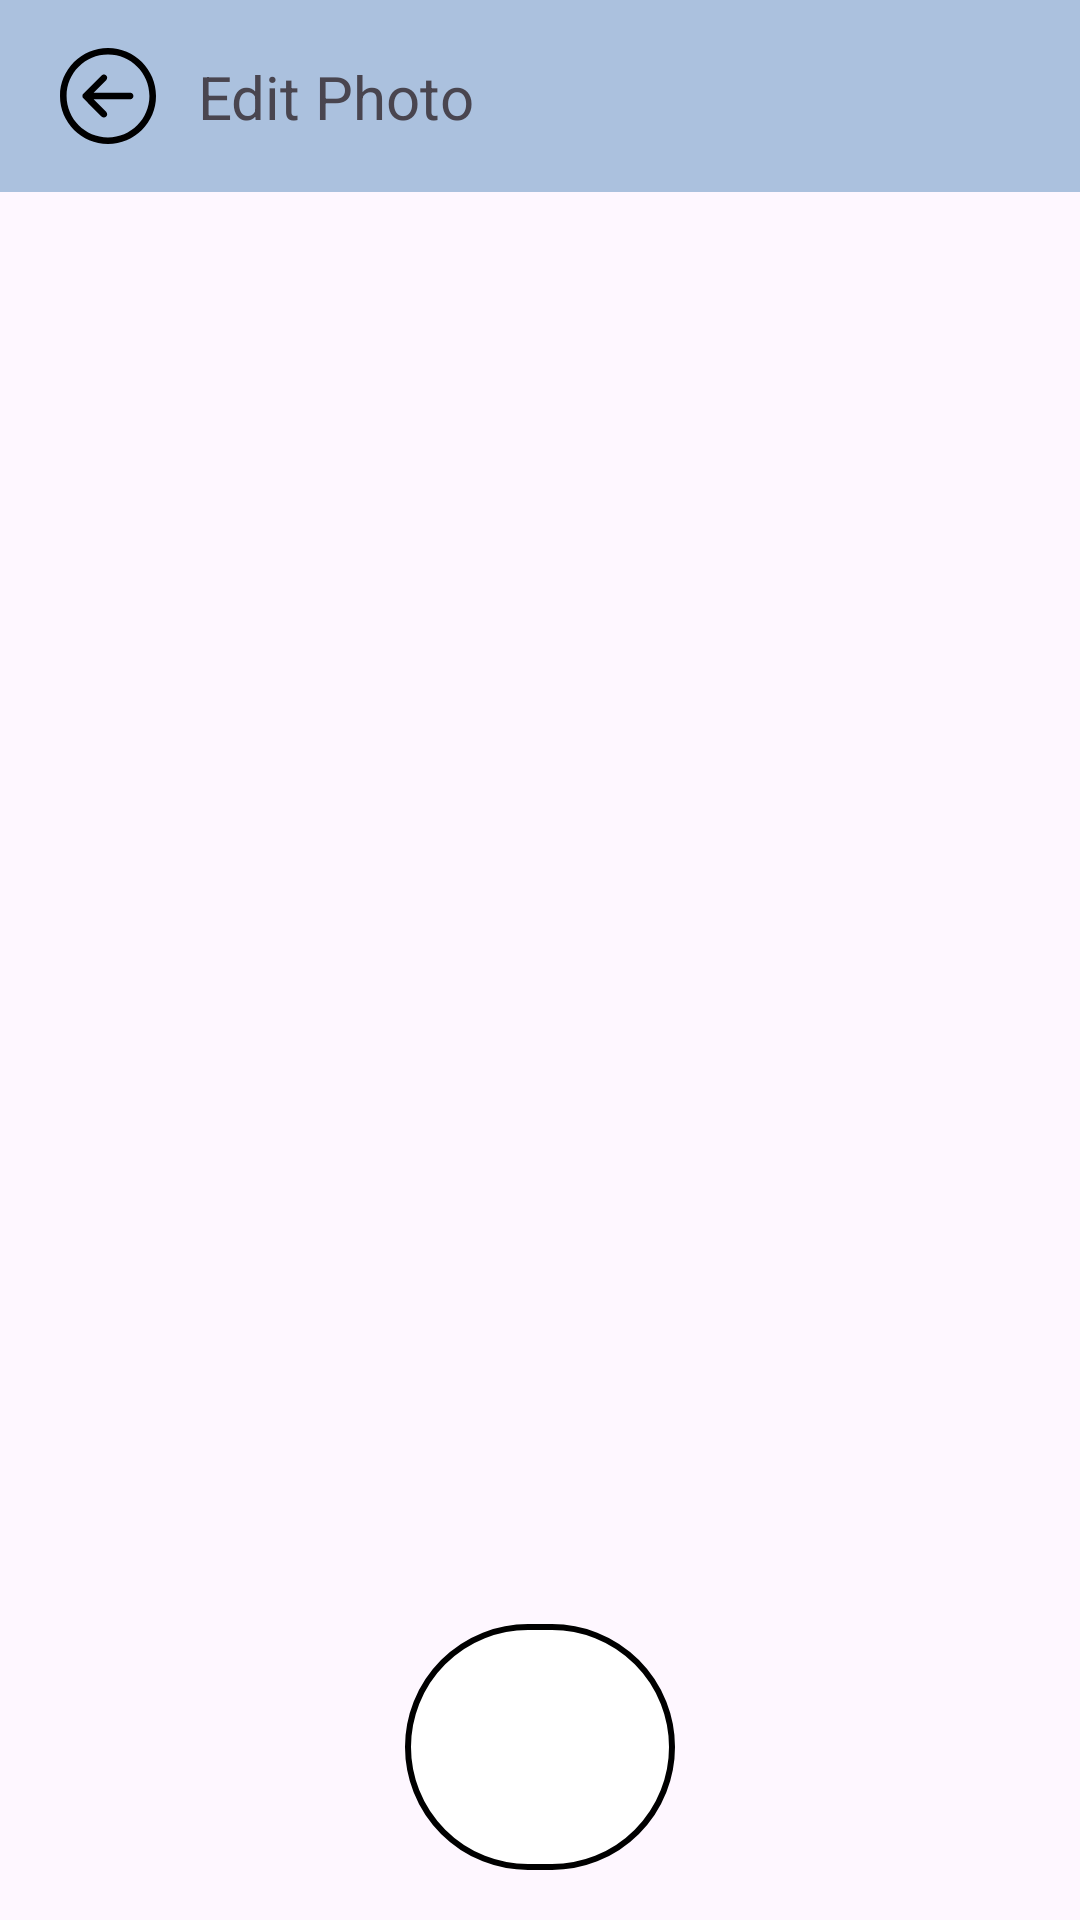

Icons on this 1080w x 1920h Android screen, each with its box as (x1, y1, x2, y2):
back: (60, 48, 156, 144)
